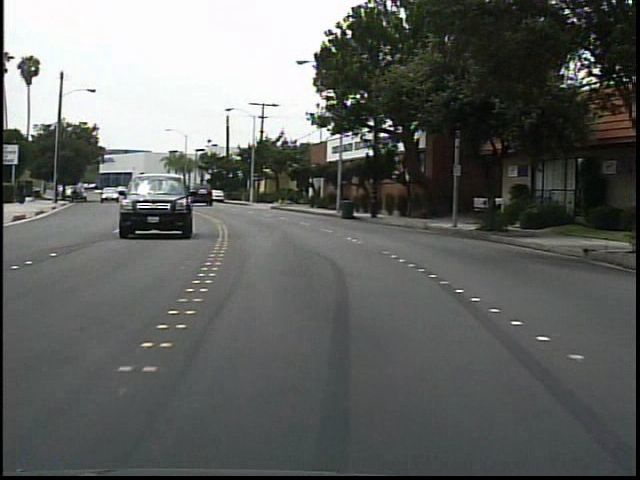person: (15, 180, 31, 207)
